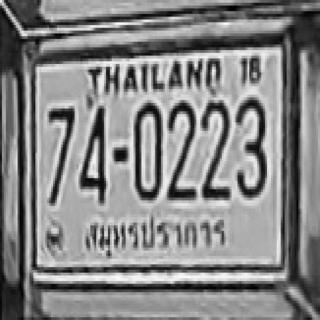N00: (134, 100, 161, 198)
N02: (199, 99, 229, 199), (166, 99, 195, 199)
N03: (235, 95, 265, 195)
N04: (80, 103, 105, 203)
N07: (47, 106, 73, 203)
P57: (85, 211, 229, 255)
